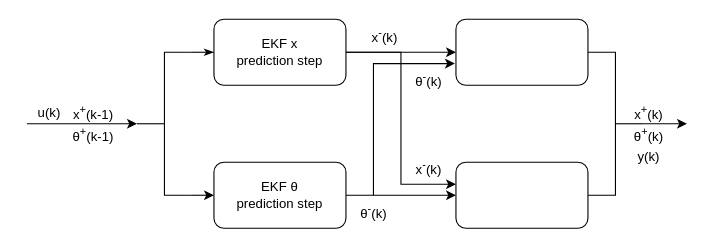
This 715x248 diagram has some shape labels left out. The centre of each missing label's shape, as x and y in pixels:
EKF x correction step: the point at 521,51
EKF θ correction step: the point at 521,194
